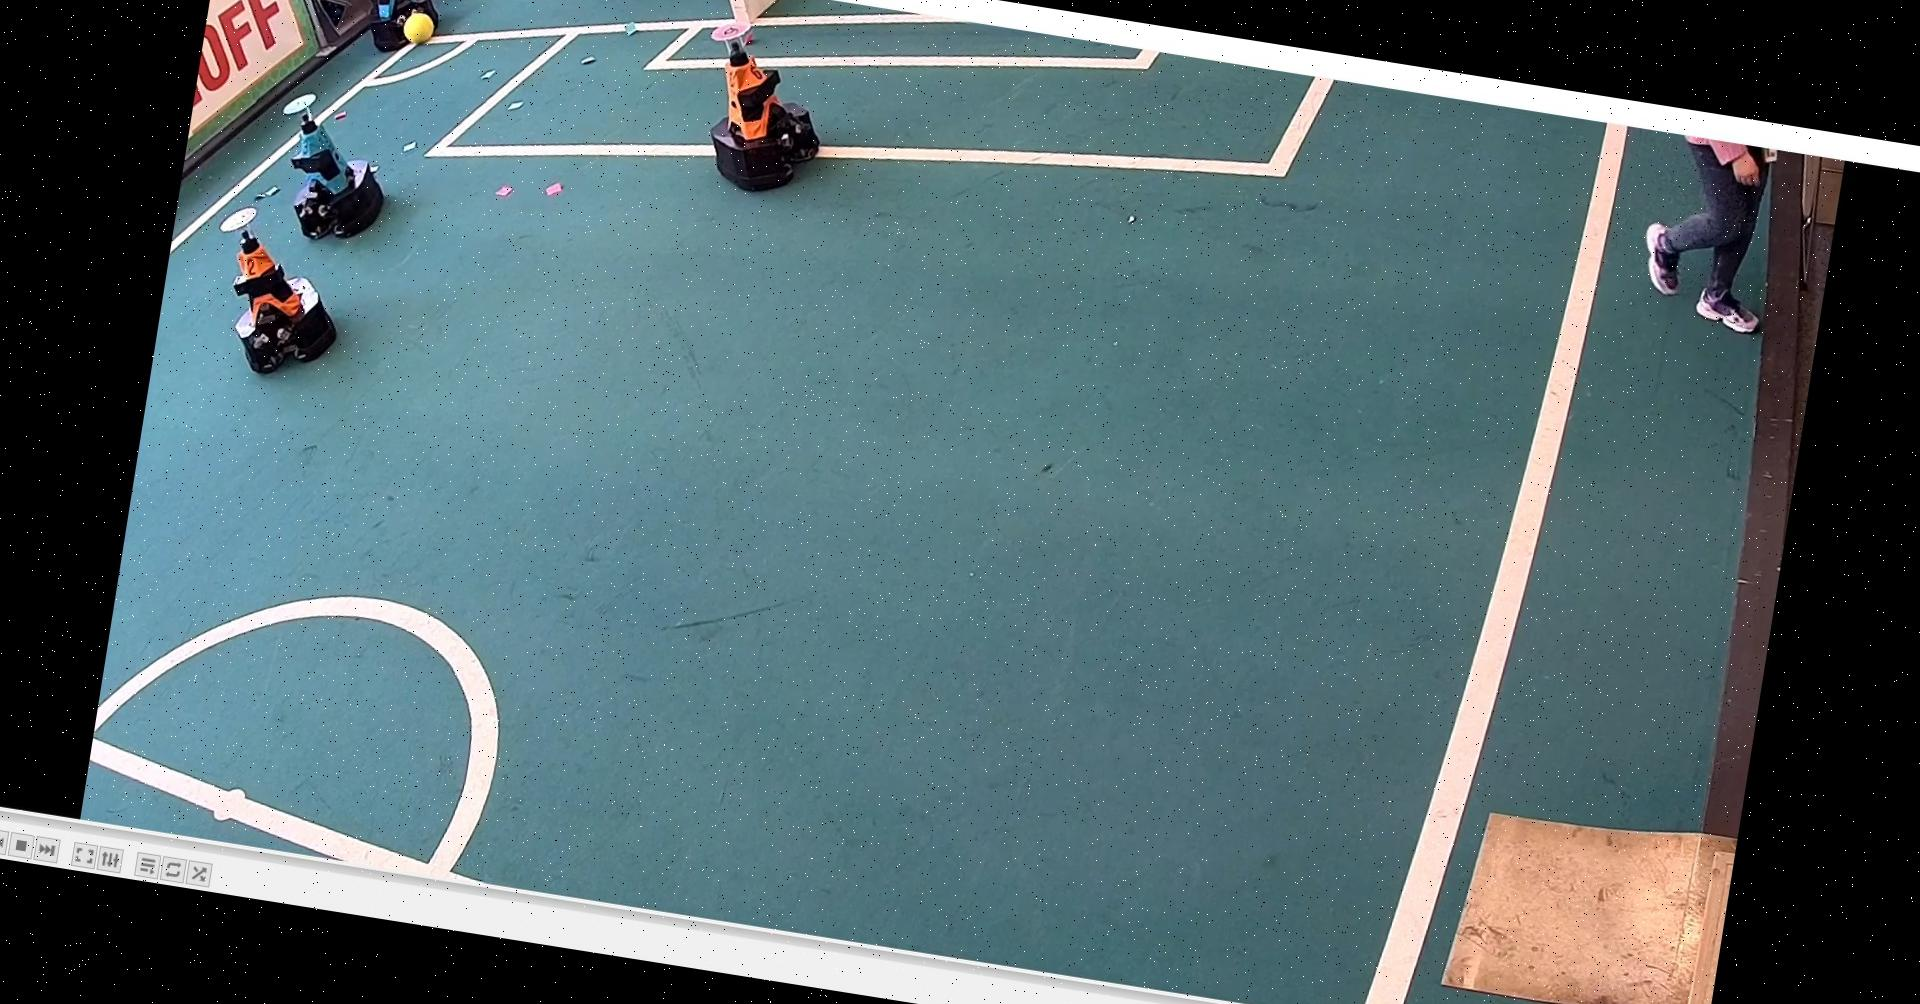Ball: (397, 8, 446, 50)
Team_Blue: (259, 83, 415, 248), (338, 0, 458, 62)
Team_Red: (687, 5, 842, 211), (192, 202, 362, 387)
